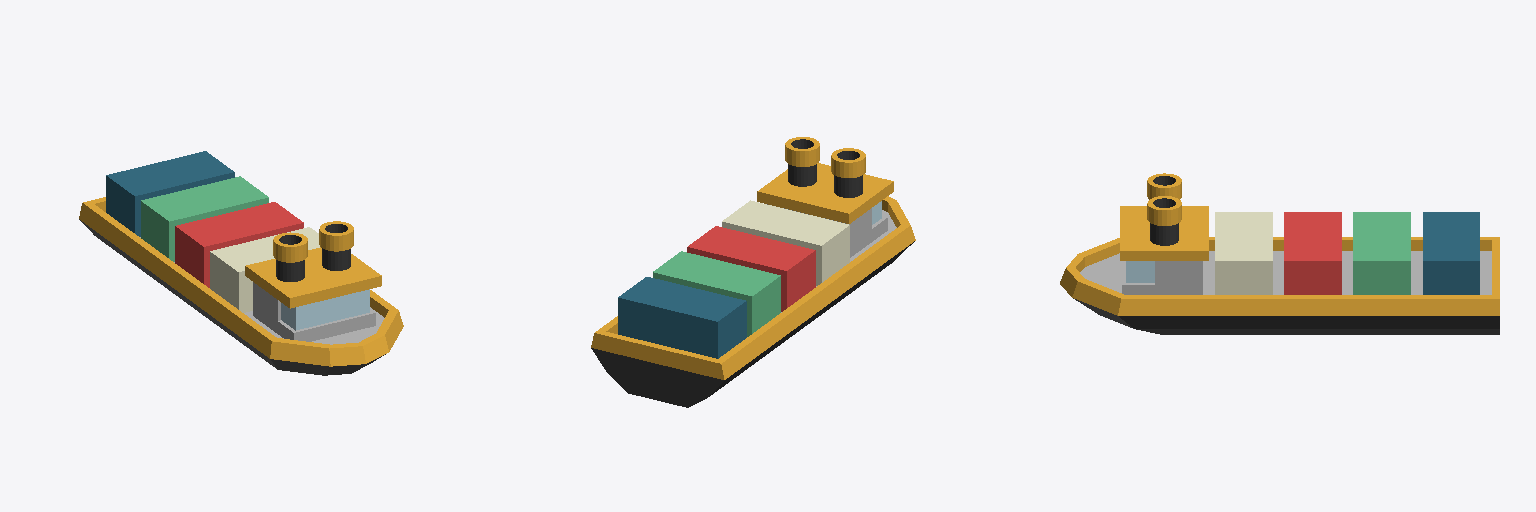
File: watercraftPack_006.obj
3 renders of one model, left to right at view 1: azimuth 30°, elevation 25°; view 2: azimuth 150°, elevation 25°; view 3: azimuth 270°, elevation 25°, orthographic.
Parts seen in each view (by area): view 1: Mesh5 Group1 Model, Mesh1 Container_4 Group1 Model, Mesh3 Container_2 Group1 Model, Mesh4 Container_3 Group1 Model, Mesh2 Container_1 Group1 Model; view 2: Mesh5 Group1 Model, Mesh1 Container_4 Group1 Model, Mesh3 Container_2 Group1 Model, Mesh2 Container_1 Group1 Model, Mesh4 Container_3 Group1 Model; view 3: Mesh5 Group1 Model, Mesh2 Container_1 Group1 Model, Mesh3 Container_2 Group1 Model, Mesh4 Container_3 Group1 Model, Mesh1 Container_4 Group1 Model.
Boxes of the visible parts, x1=… form: Mesh5 Group1 Model: x1=79, y1=197, x2=403, y2=375; Mesh1 Container_4 Group1 Model: x1=106, y1=151, x2=234, y2=236; Mesh3 Container_2 Group1 Model: x1=175, y1=202, x2=303, y2=287; Mesh4 Container_3 Group1 Model: x1=141, y1=176, x2=268, y2=261; Mesh2 Container_1 Group1 Model: x1=210, y1=227, x2=319, y2=312; Mesh5 Group1 Model: x1=591, y1=137, x2=915, y2=407; Mesh1 Container_4 Group1 Model: x1=618, y1=277, x2=746, y2=358; Mesh3 Container_2 Group1 Model: x1=687, y1=226, x2=815, y2=311; Mesh2 Container_1 Group1 Model: x1=722, y1=200, x2=849, y2=285; Mesh4 Container_3 Group1 Model: x1=653, y1=251, x2=780, y2=336; Mesh5 Group1 Model: x1=1060, y1=173, x2=1499, y2=334; Mesh2 Container_1 Group1 Model: x1=1215, y1=212, x2=1272, y2=294; Mesh3 Container_2 Group1 Model: x1=1284, y1=212, x2=1341, y2=294; Mesh4 Container_3 Group1 Model: x1=1353, y1=212, x2=1410, y2=294; Mesh1 Container_4 Group1 Model: x1=1423, y1=212, x2=1479, y2=294.
Size of the model in its own units: 3.69 by 3.38 by 10.55.